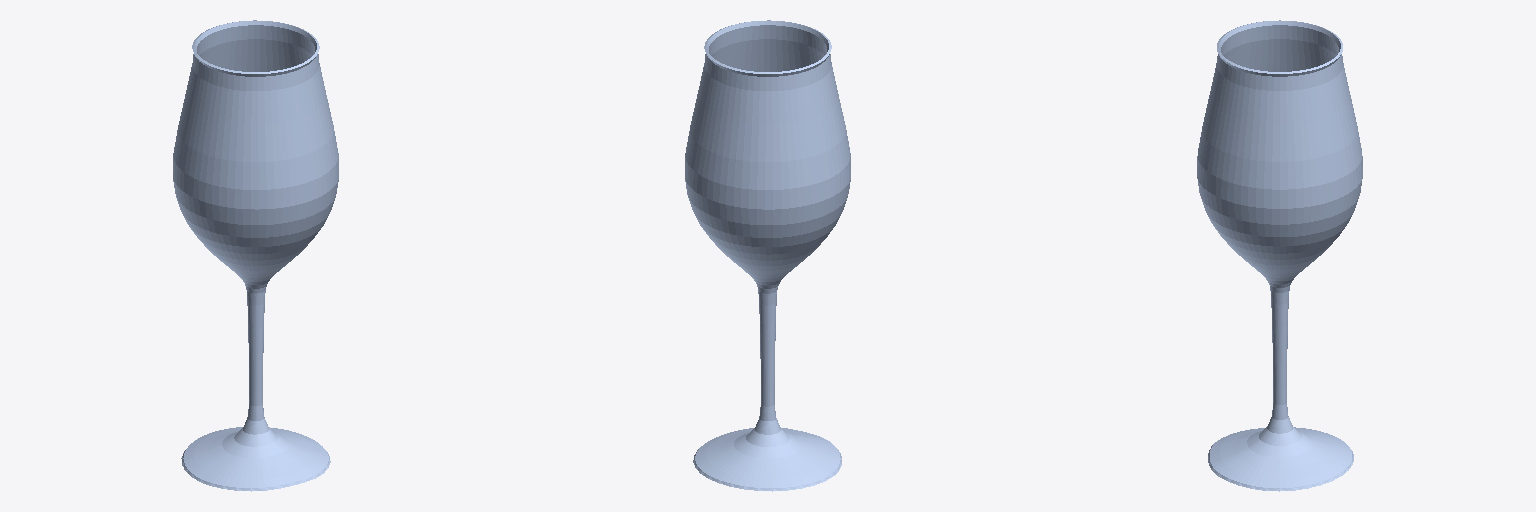
URDF robot description (model.urdf):
<?xml version="0.0" ?>
<robot name="model.urdf">
  <link name="baseLink">
    <contact>
      <friction_anchor/>
      <lateral_friction value="0.3"/>
      <rolling_friction value="0.0"/>
      <contact_cfm value="0.0"/>
      <contact_erp value="1.0"/>
    </contact>
    <inertial>
       <origin rpy="0 0 0" xyz="0 0 0"/>
       <mass value="0.1"/>
       <inertia ixx="8e-05" ixy="0" ixz="0" iyy="0.0002" iyz="0" izz="0.0002"/>
    </inertial>
    <visual>
      <geometry>
        <mesh filename="textured.dae" scale="1.2 1.2 1.2"/>
      </geometry>
      <material name="blue">
        <color rgba="0.78 0.85 0.97 1."/>
      </material>
    </visual>
    <collision>
      <geometry>
    	 	<mesh filename="textured.dae" scale="1.2 1.2 1.2"/>
      </geometry>
    </collision>
  </link>
</robot>

--- Render facts (derived) ---
3 views of the same robot in one strip: view 1: azimuth 30°, elevation 25°; view 2: azimuth 150°, elevation 25°; view 3: azimuth 270°, elevation 25° (orthographic).
Robot: model.urdf — 1 links, 0 joints (none); root link baseLink; default pose: all joints at 0.
Links seen in each view (by area): view 1: baseLink; view 2: baseLink; view 3: baseLink.
Link boxes in pixels (x1=…): baseLink: x1=173, y1=20, x2=338, y2=491; baseLink: x1=685, y1=20, x2=850, y2=491; baseLink: x1=1197, y1=20, x2=1362, y2=491.
Size in the robot's own frame: 0.0708 by 0.0708 by 0.1945 metres.
1 mesh visuals loaded from 1 distinct referenced files (1 Collada DAE).